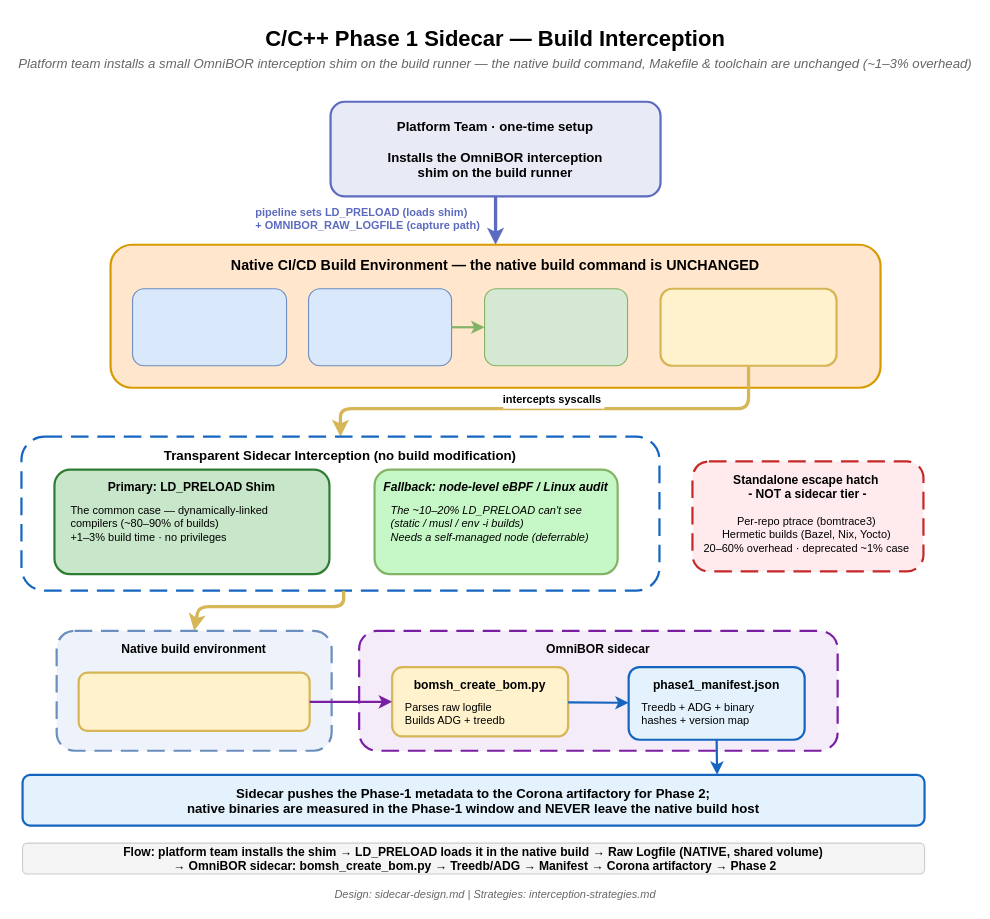
The diagram is 990 pixels wide and 919 high, and some of its shapes have lost their labels. Each missing label, with the centre of its shape:
Native Binaries (identical to normal build): point 555,327
Native Source src/*.c src/*.h Makefile: point 379,327
Native Toolchain gcc 13 / clang 17 make / cmake: point 209,327
OmniBOR interception shim libbisbom_intercept.so (loaded via LD_PRELOAD): point 748,326
Raw Logfile (the shim writes it inline to the shared volume): point 193,701
